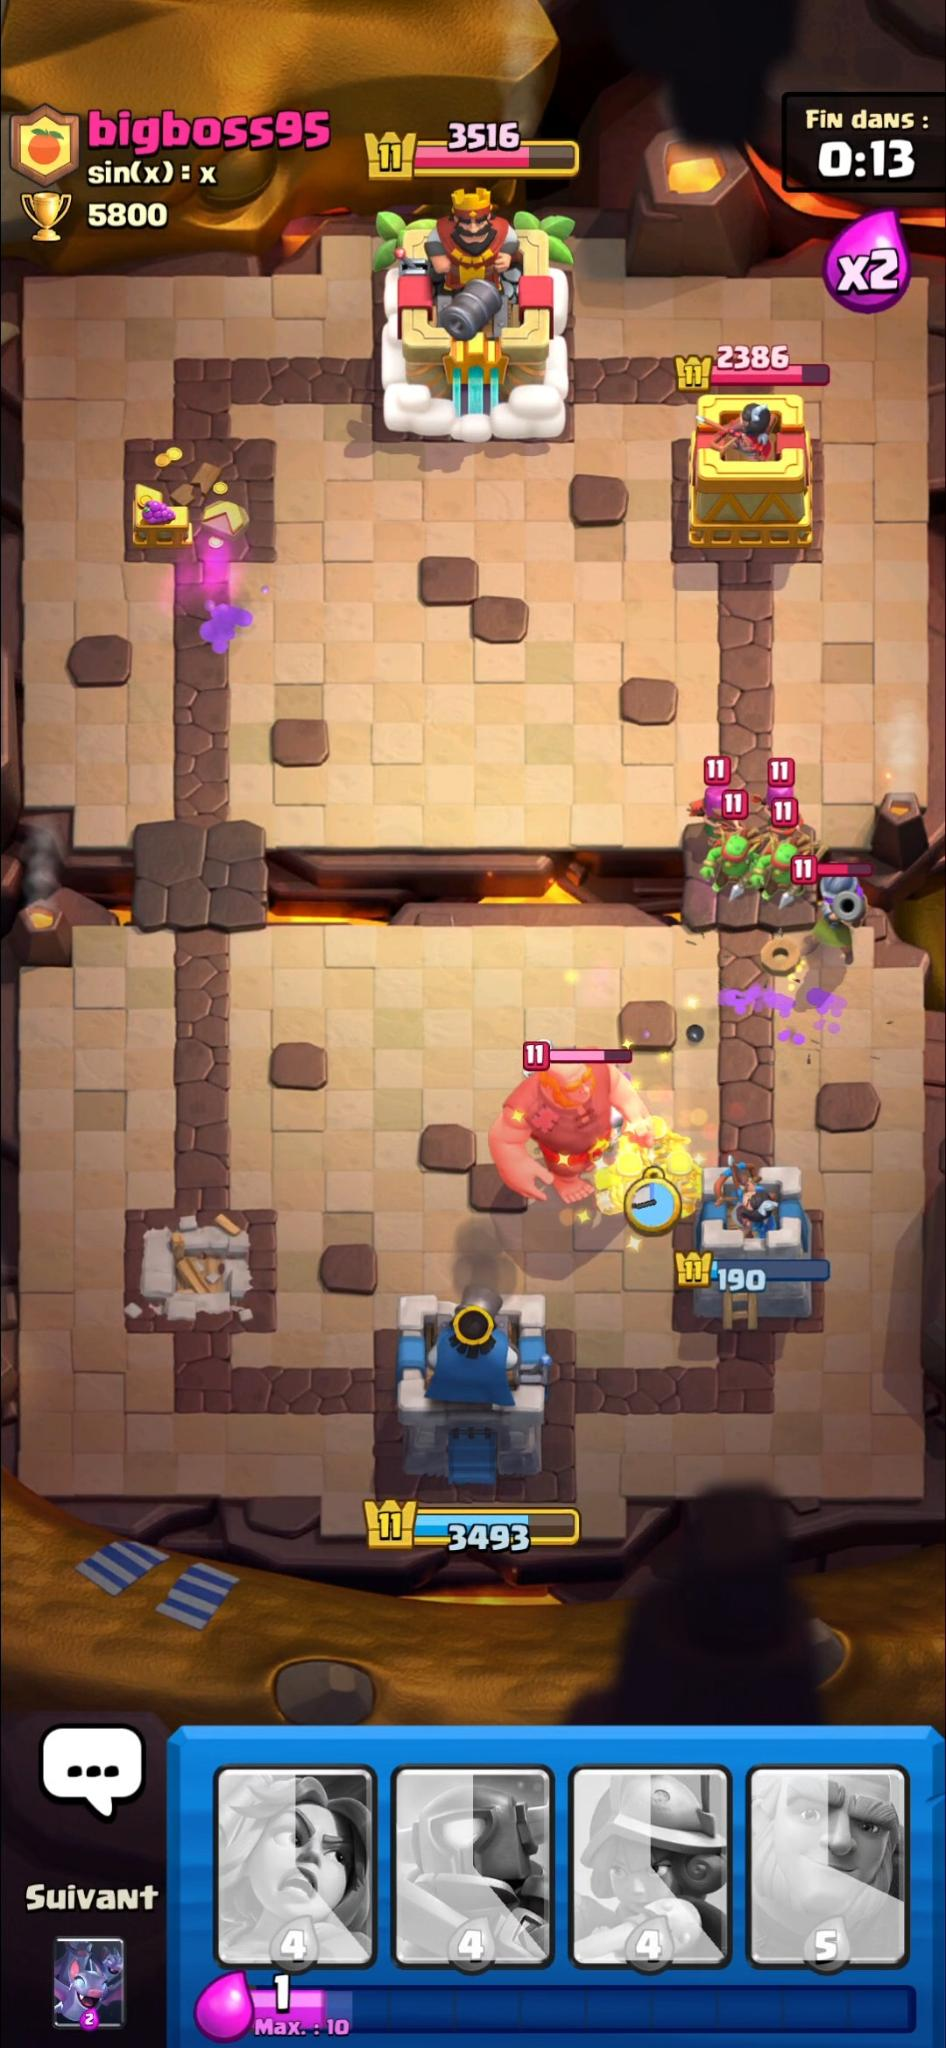archere: (685, 786, 746, 832), (755, 782, 805, 828)
geant: (495, 1059, 656, 1212)
gobelin_lances: (704, 829, 774, 899), (651, 1149, 713, 1216), (757, 840, 826, 900), (605, 1145, 664, 1216)
mousquetaire: (814, 871, 874, 967)
